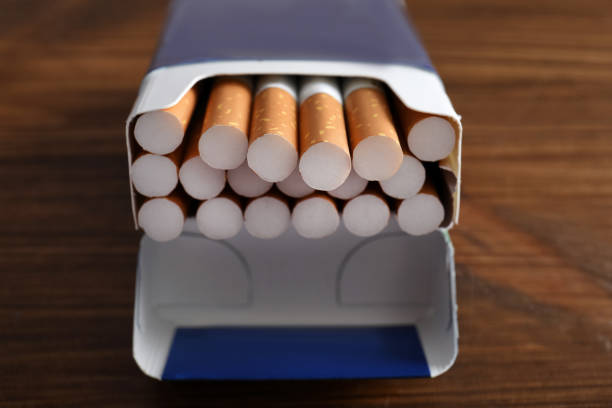cigarette: (123, 1, 465, 386), (340, 79, 404, 180), (297, 77, 352, 190), (246, 77, 298, 183), (199, 79, 252, 172), (390, 90, 456, 163), (133, 85, 198, 155), (398, 181, 445, 237), (182, 144, 227, 201), (342, 190, 392, 237), (137, 196, 190, 240), (379, 152, 427, 199), (195, 193, 244, 238), (133, 150, 180, 196), (292, 194, 341, 238), (246, 194, 291, 240), (227, 159, 274, 197), (325, 166, 369, 200), (276, 164, 316, 196)
